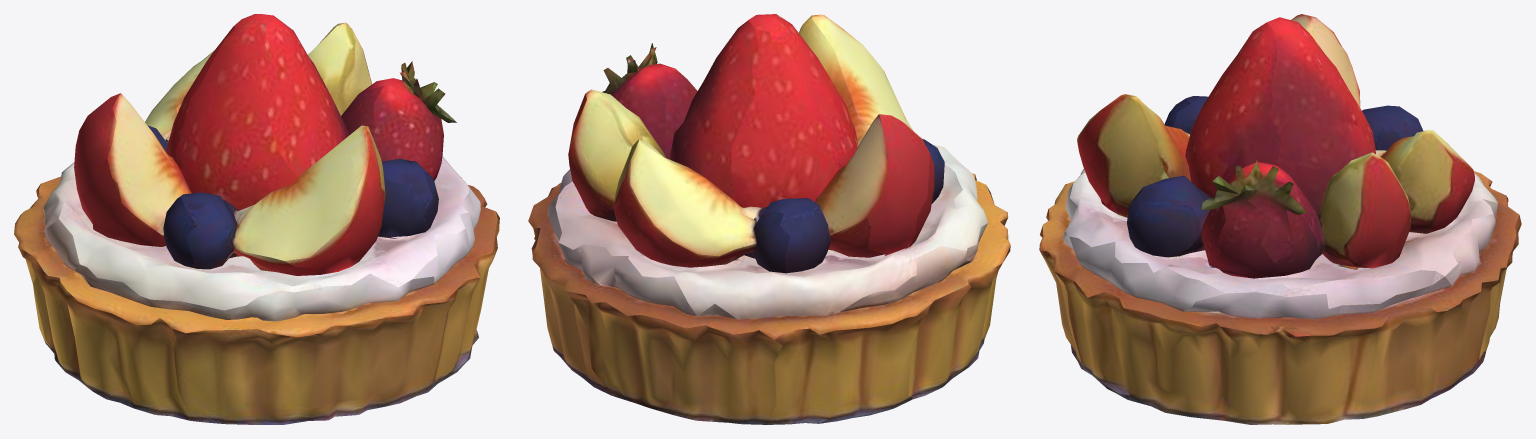
The model's file is fruit_tart.glb.
3 views of the same model, side by side, from view 1: azimuth 30°, elevation 25°; view 2: azimuth 150°, elevation 25°; view 3: azimuth 270°, elevation 25° (orthographic).
Parts seen in each view (by area): view 1: item_fruit_tart; view 2: item_fruit_tart; view 3: item_fruit_tart.
Part boxes in pixels (x1,y1,x2,y2): item_fruit_tart: (14,14,499,424); item_fruit_tart: (528,14,1010,424); item_fruit_tart: (1039,14,1521,424).
Size of the model in its own units: 0.997 by 0.7243 by 1.
Materials: 1 (1 with a texture image).
